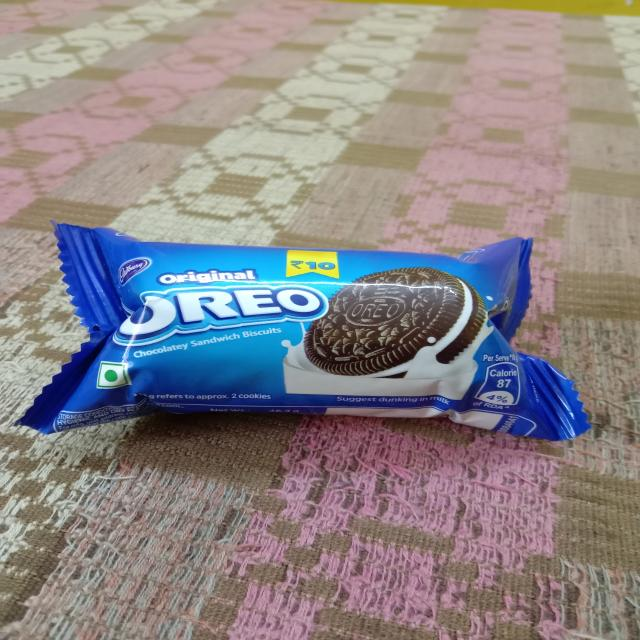oreo biscuit: (24, 208, 602, 460)
